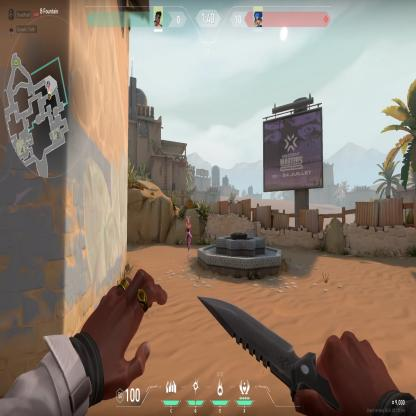enemy: (184, 215, 192, 259)
